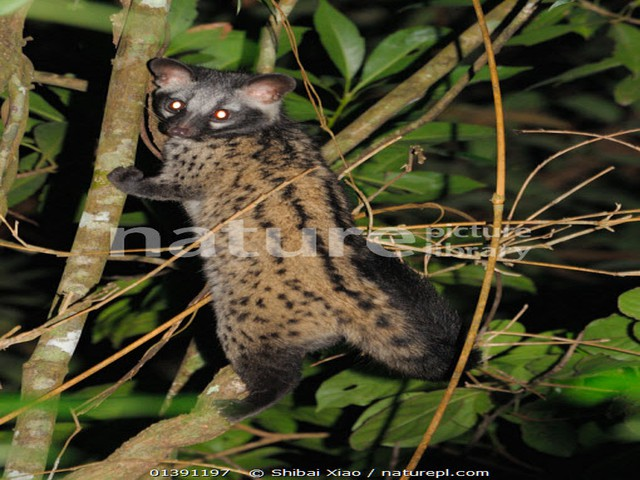civet: (108, 55, 486, 422)
